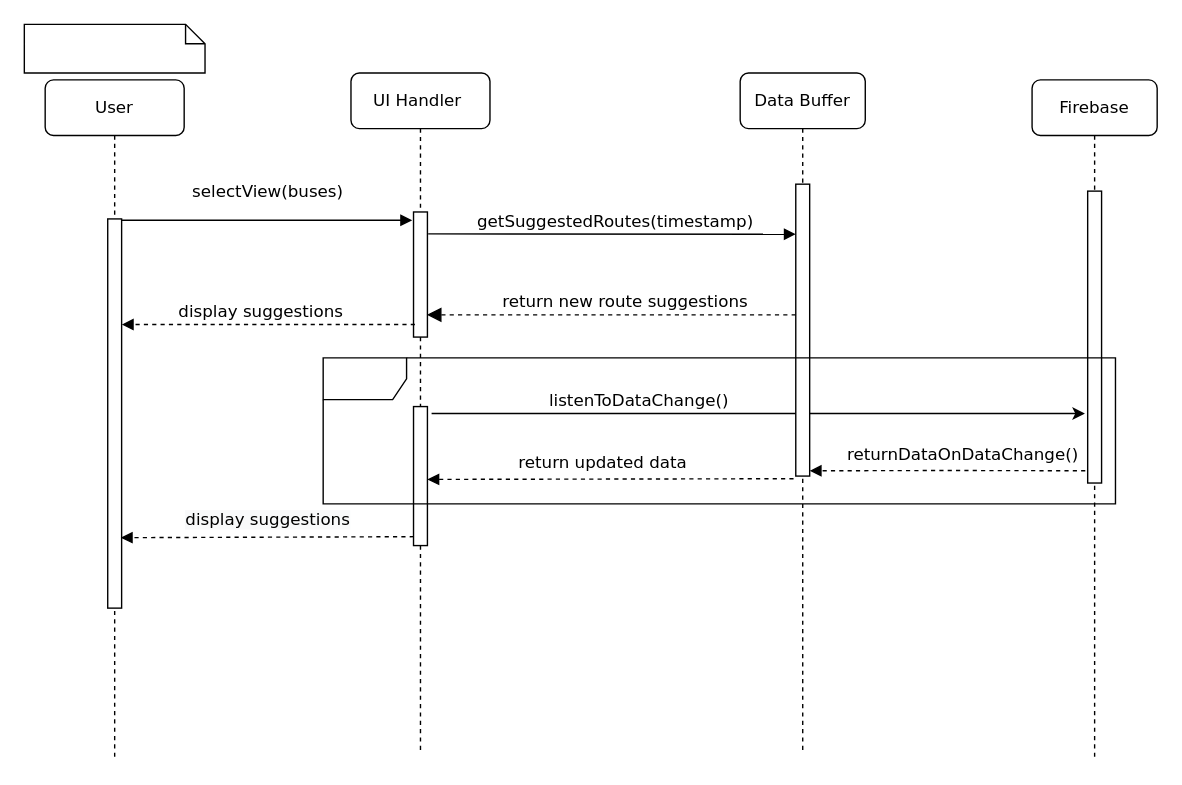
This 1182x785 diagram has some shape labels left out. The shapes that lost their labels are listed below. From the top down, each one's centre as x and y in pixels, then its label:
(x=114, y=48): User is Logged-in
(x=718, y=430): loop
